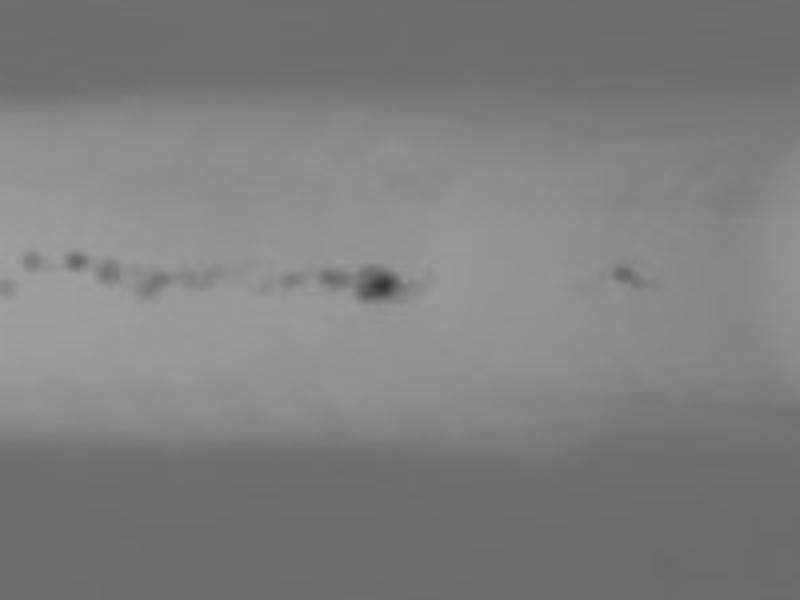defect: (361, 269, 393, 301), (318, 263, 347, 292), (137, 272, 165, 300), (96, 259, 122, 285), (22, 252, 43, 273), (64, 250, 85, 271), (282, 271, 303, 292), (198, 266, 218, 286), (179, 269, 197, 287), (613, 266, 631, 284), (1, 278, 17, 294)
